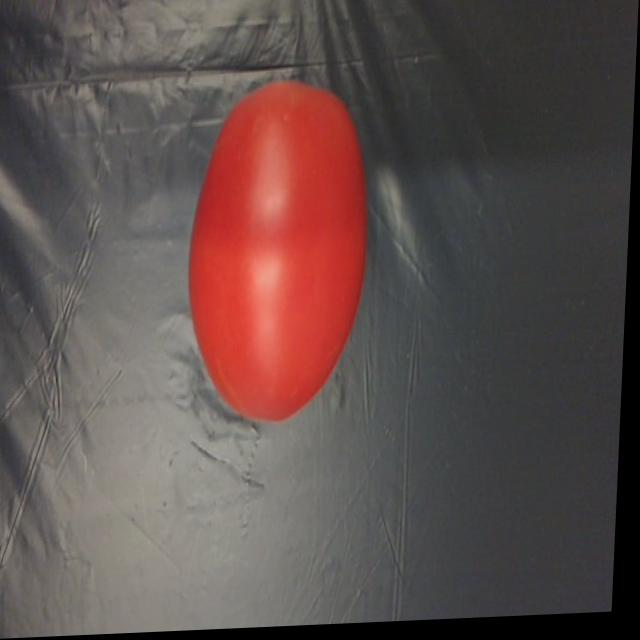kirmizi: (182, 78, 379, 435)
